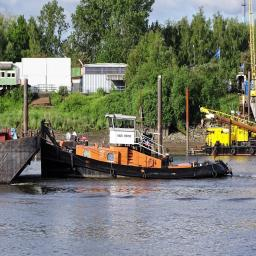tugboat: (41, 110, 236, 189)
